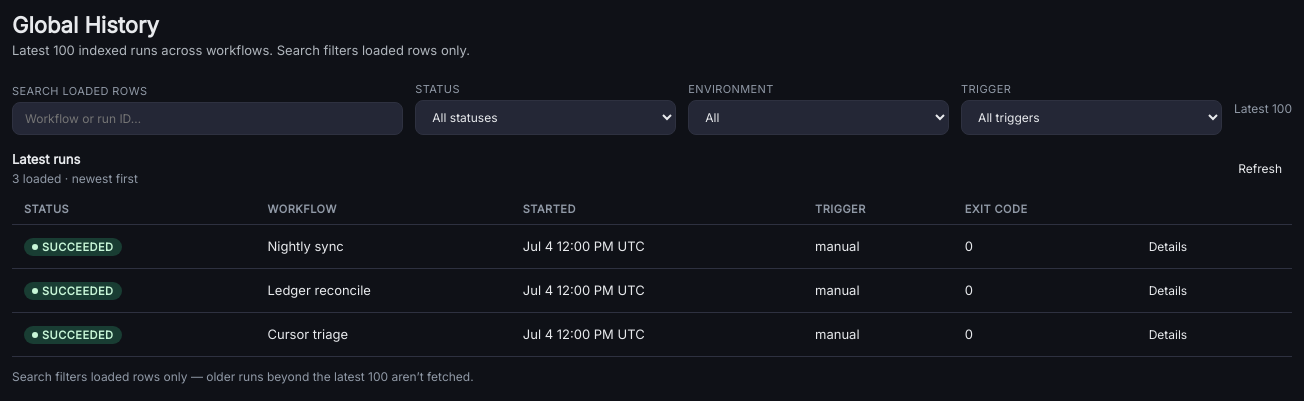
GlobalHistory › re-queries the bounded backend window when the status filter changes
Expected: the text "Nightly sync" is shown, [256,224,511,268]
Select "Failed" in the dropdown labelled "Status" at (546, 117), box [415,100,676,134]
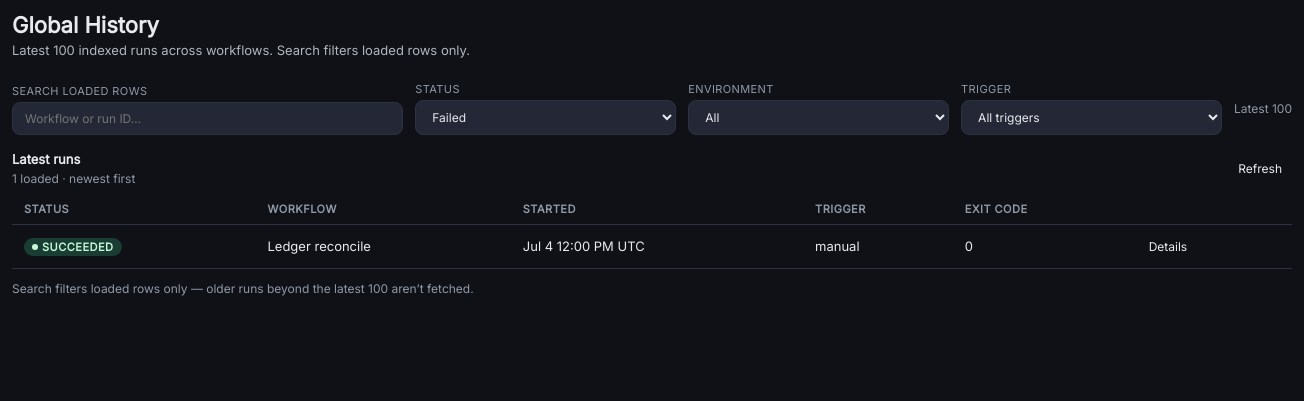
Expected: the text "Ledger reconcile" is shown, [256,224,511,268]
Now the text "Nightly sync" is gone
Now the text "1 loaded · newest first" is shown, box [12,170,135,186]
